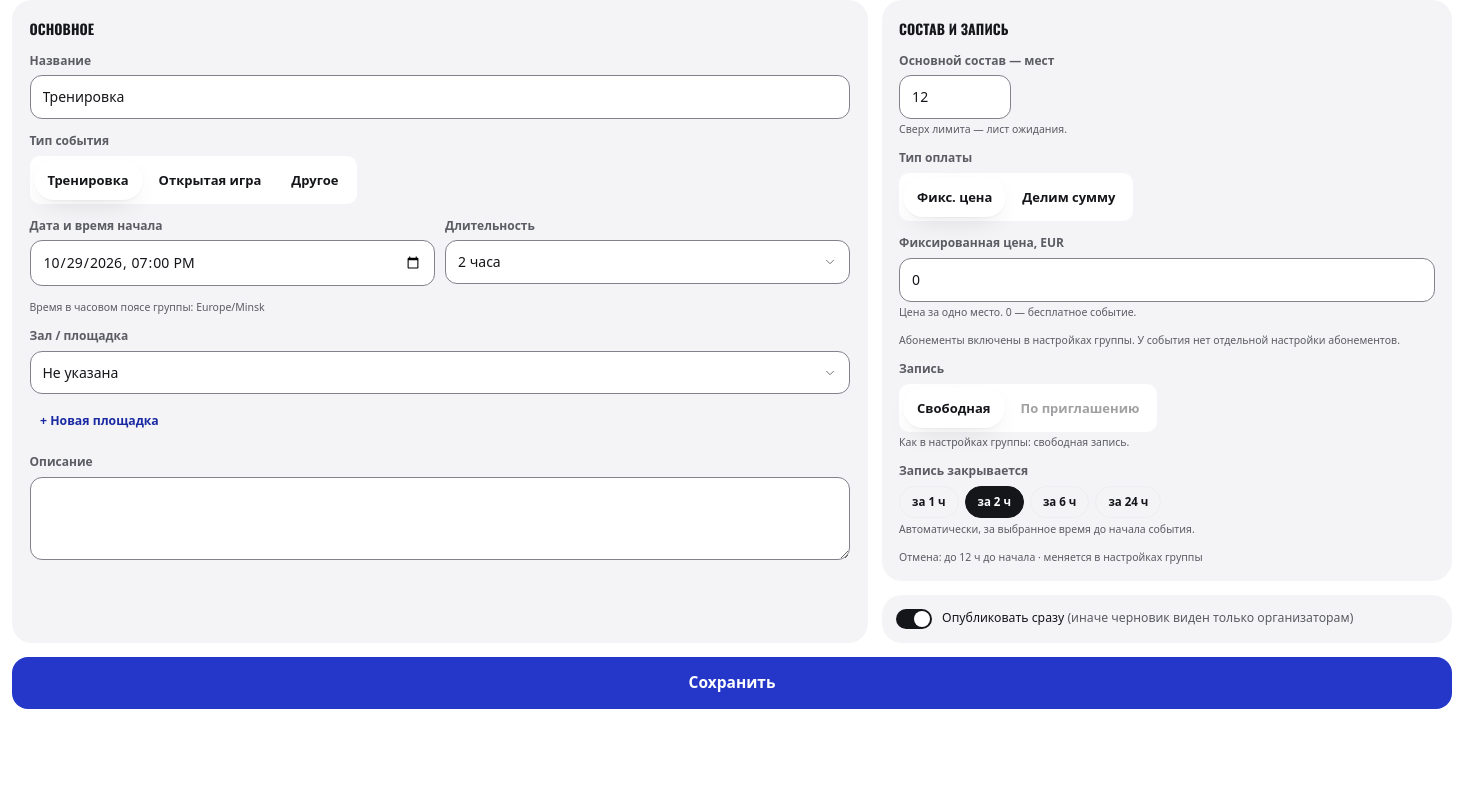
Scenario: EventForm payload and state › preserves_unsaved_values_between_modes and submits only the selected amount
Replace the text in the field with id "ev-price" with "15": {"x": 1167, "y": 280} [899, 258, 1434, 302]
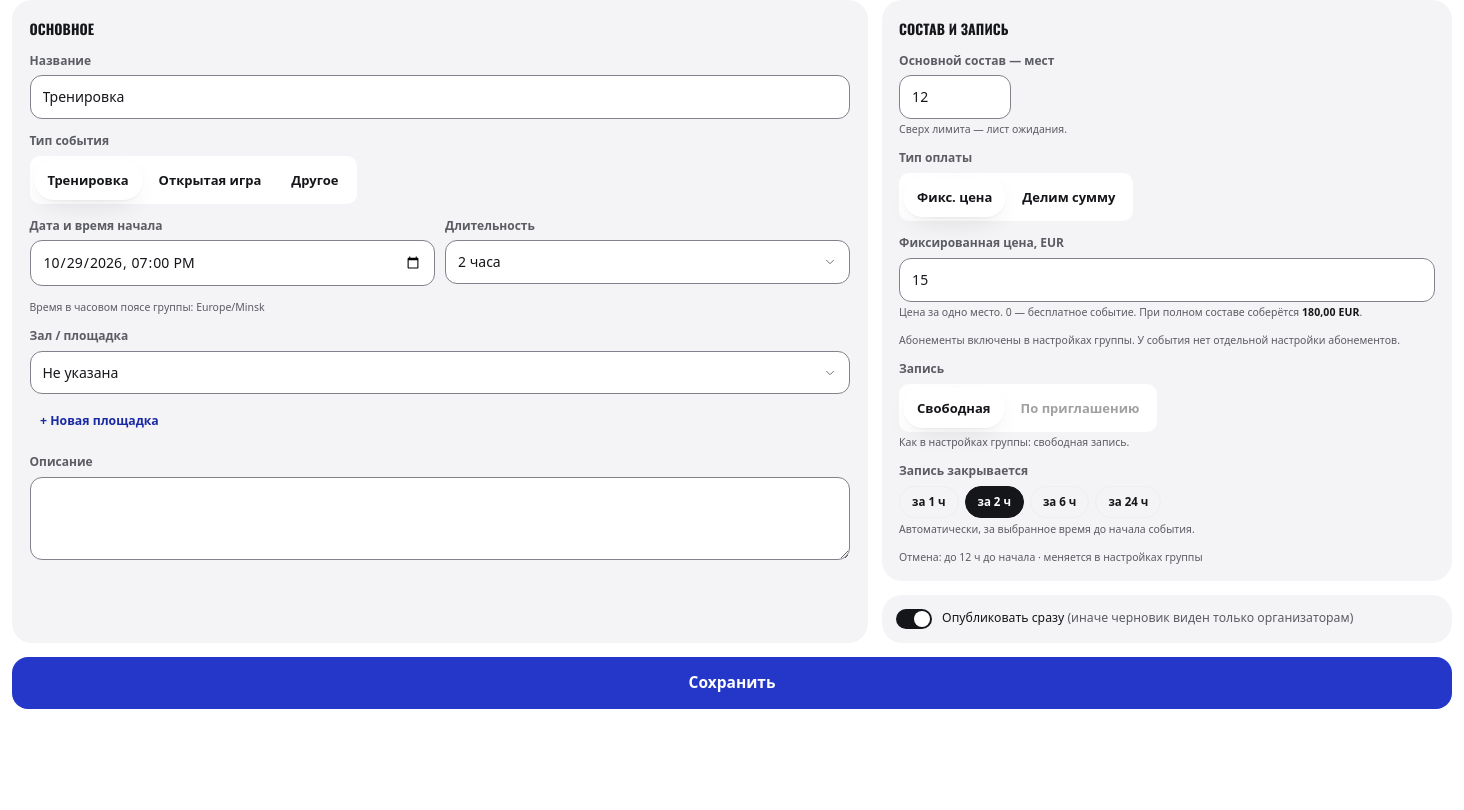
Click the radio button labelled "Делим сумму": {"x": 1069, "y": 197} [1008, 177, 1129, 217]
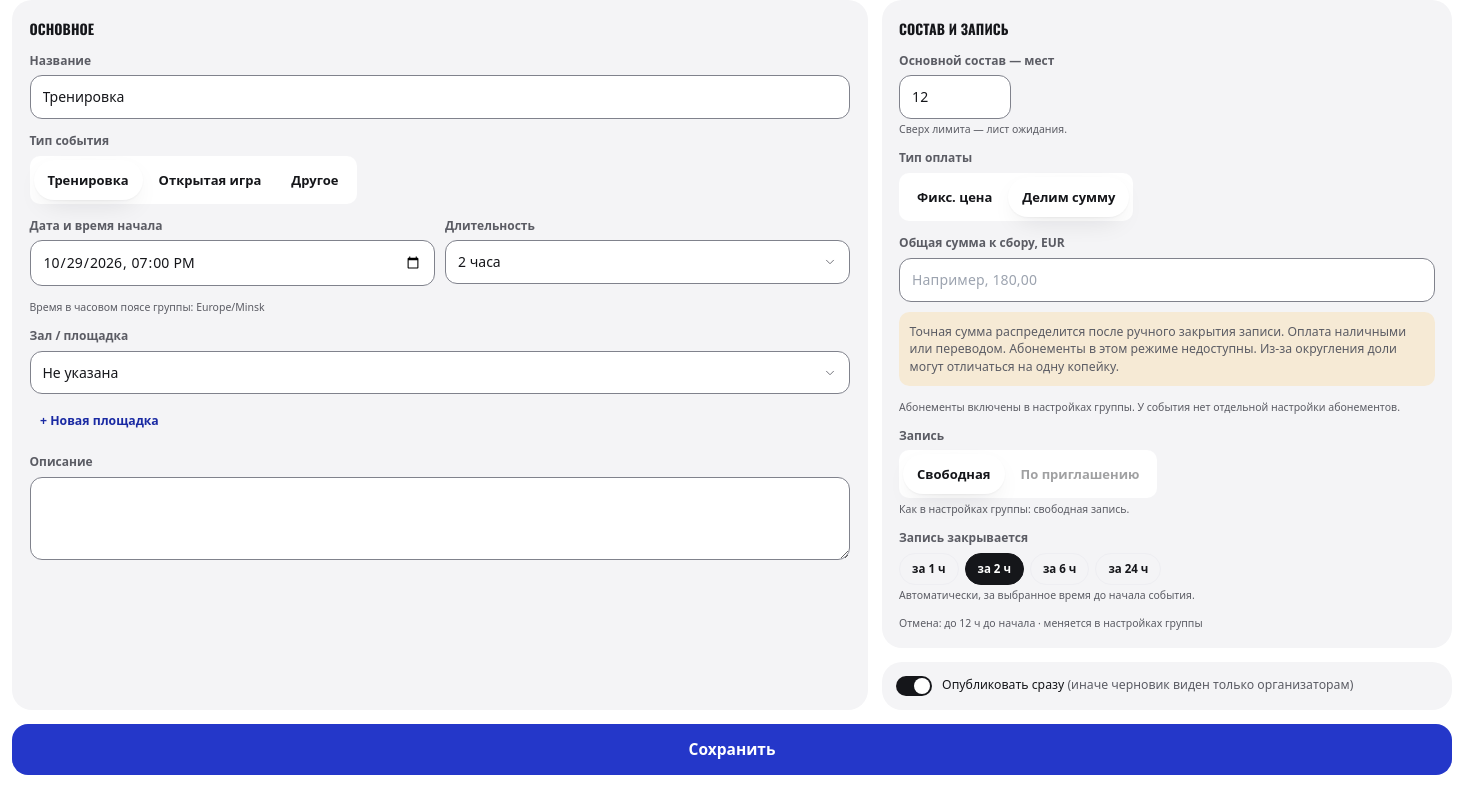
Expected: the text "Eur" is shown, [30, 300, 265, 314]
In the field with id "ev-target": {"x": 1167, "y": 280} [899, 258, 1434, 302], type "100"
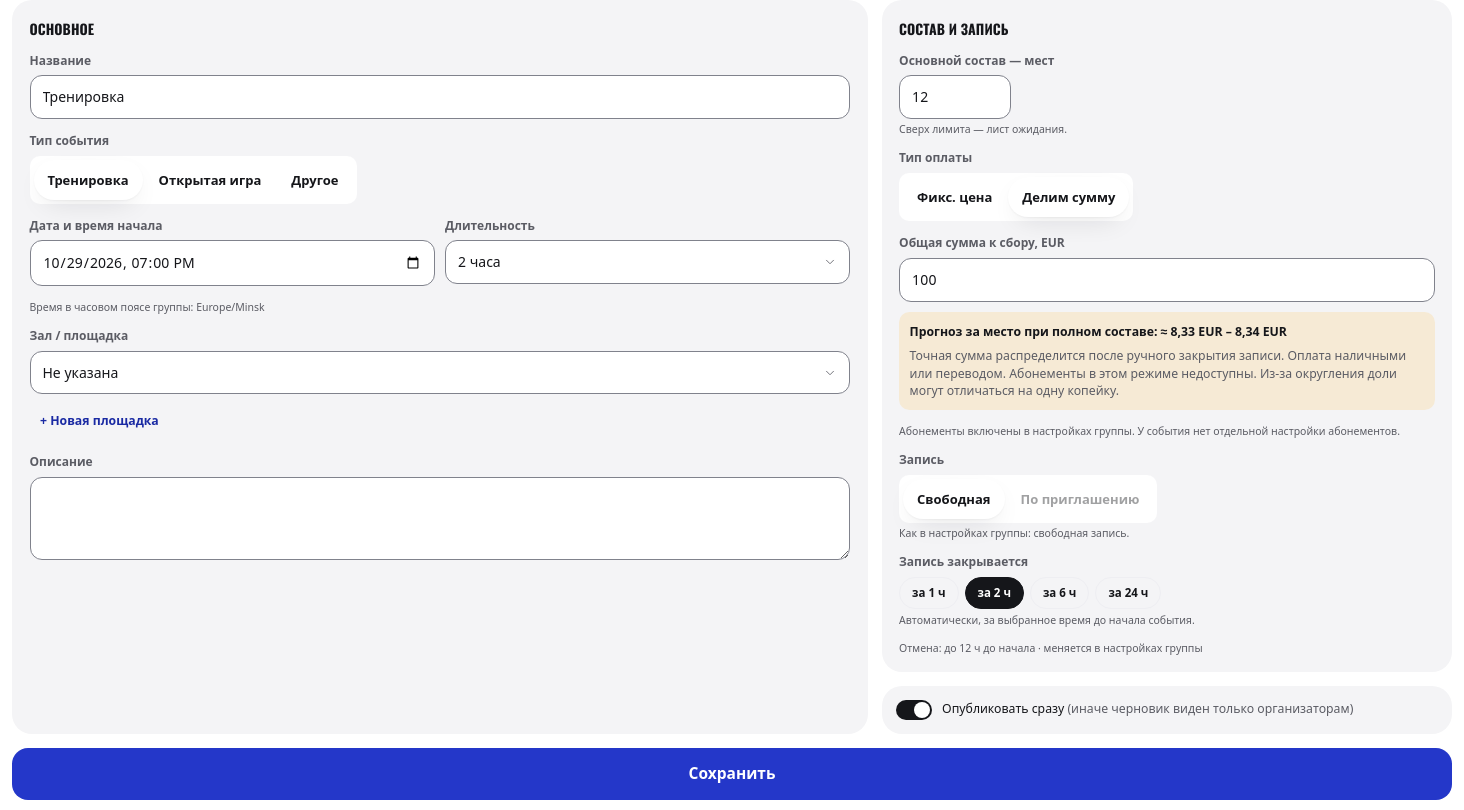
Submit the form
Click the radio button labelled "Фикс. цена": {"x": 955, "y": 197} [903, 177, 1006, 217]
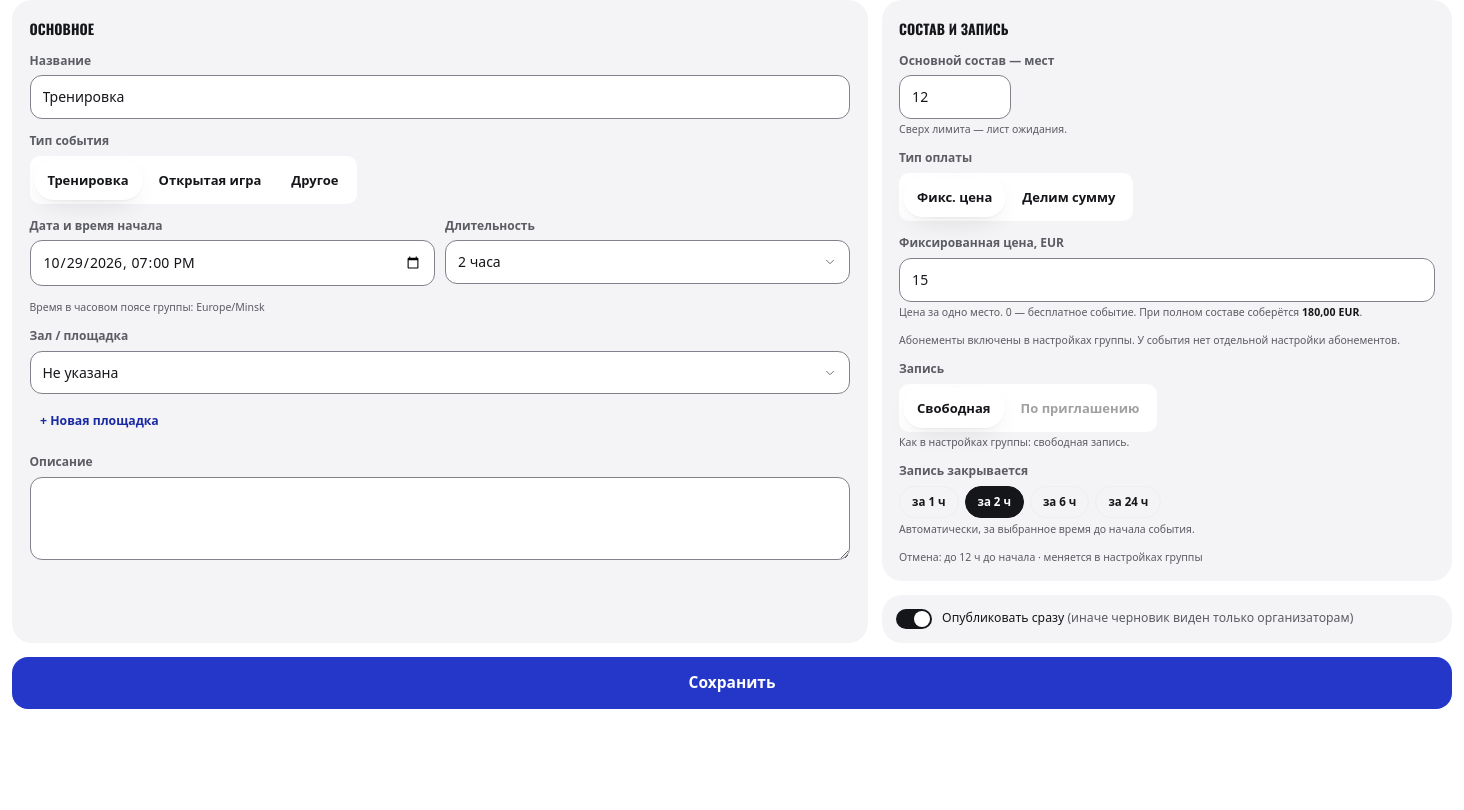
Expected: the field with id "ev-price" holds "15", [899, 258, 1434, 302]
Submit the form
Click the radio button labelled "Делим сумму": {"x": 1069, "y": 197} [1008, 177, 1129, 217]
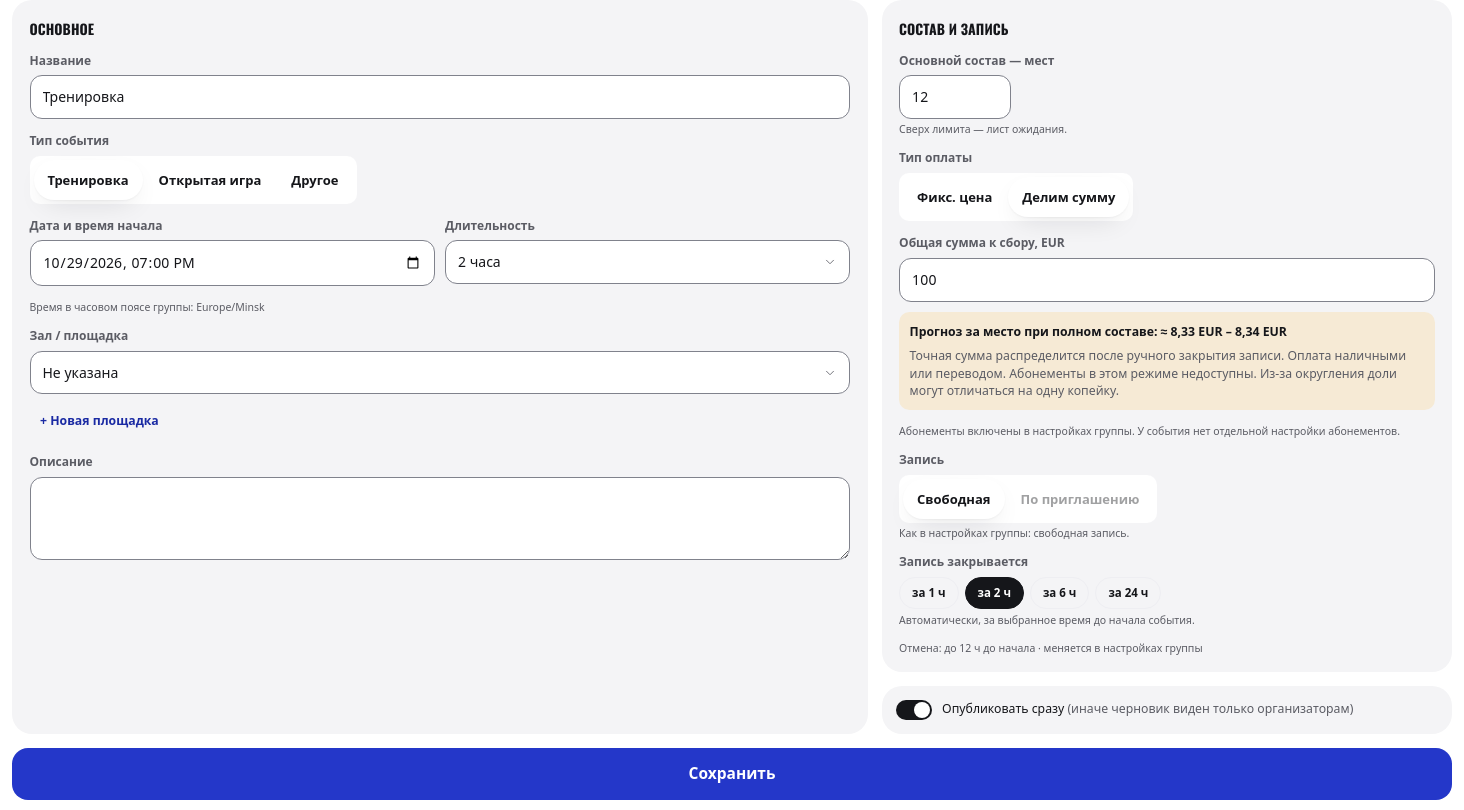
Expected: the field with id "ev-target" holds "100", [899, 258, 1434, 302]
